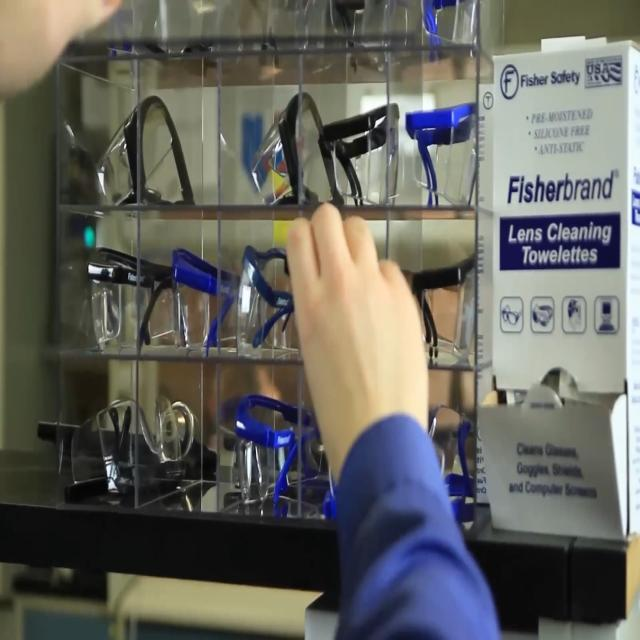googles: (249, 80, 369, 215), (210, 391, 331, 523), (88, 84, 201, 220), (391, 232, 485, 374), (39, 389, 139, 517), (82, 242, 182, 359), (321, 93, 405, 227), (405, 90, 486, 222), (148, 240, 240, 345), (128, 389, 202, 514), (230, 237, 300, 356), (425, 405, 482, 538)
